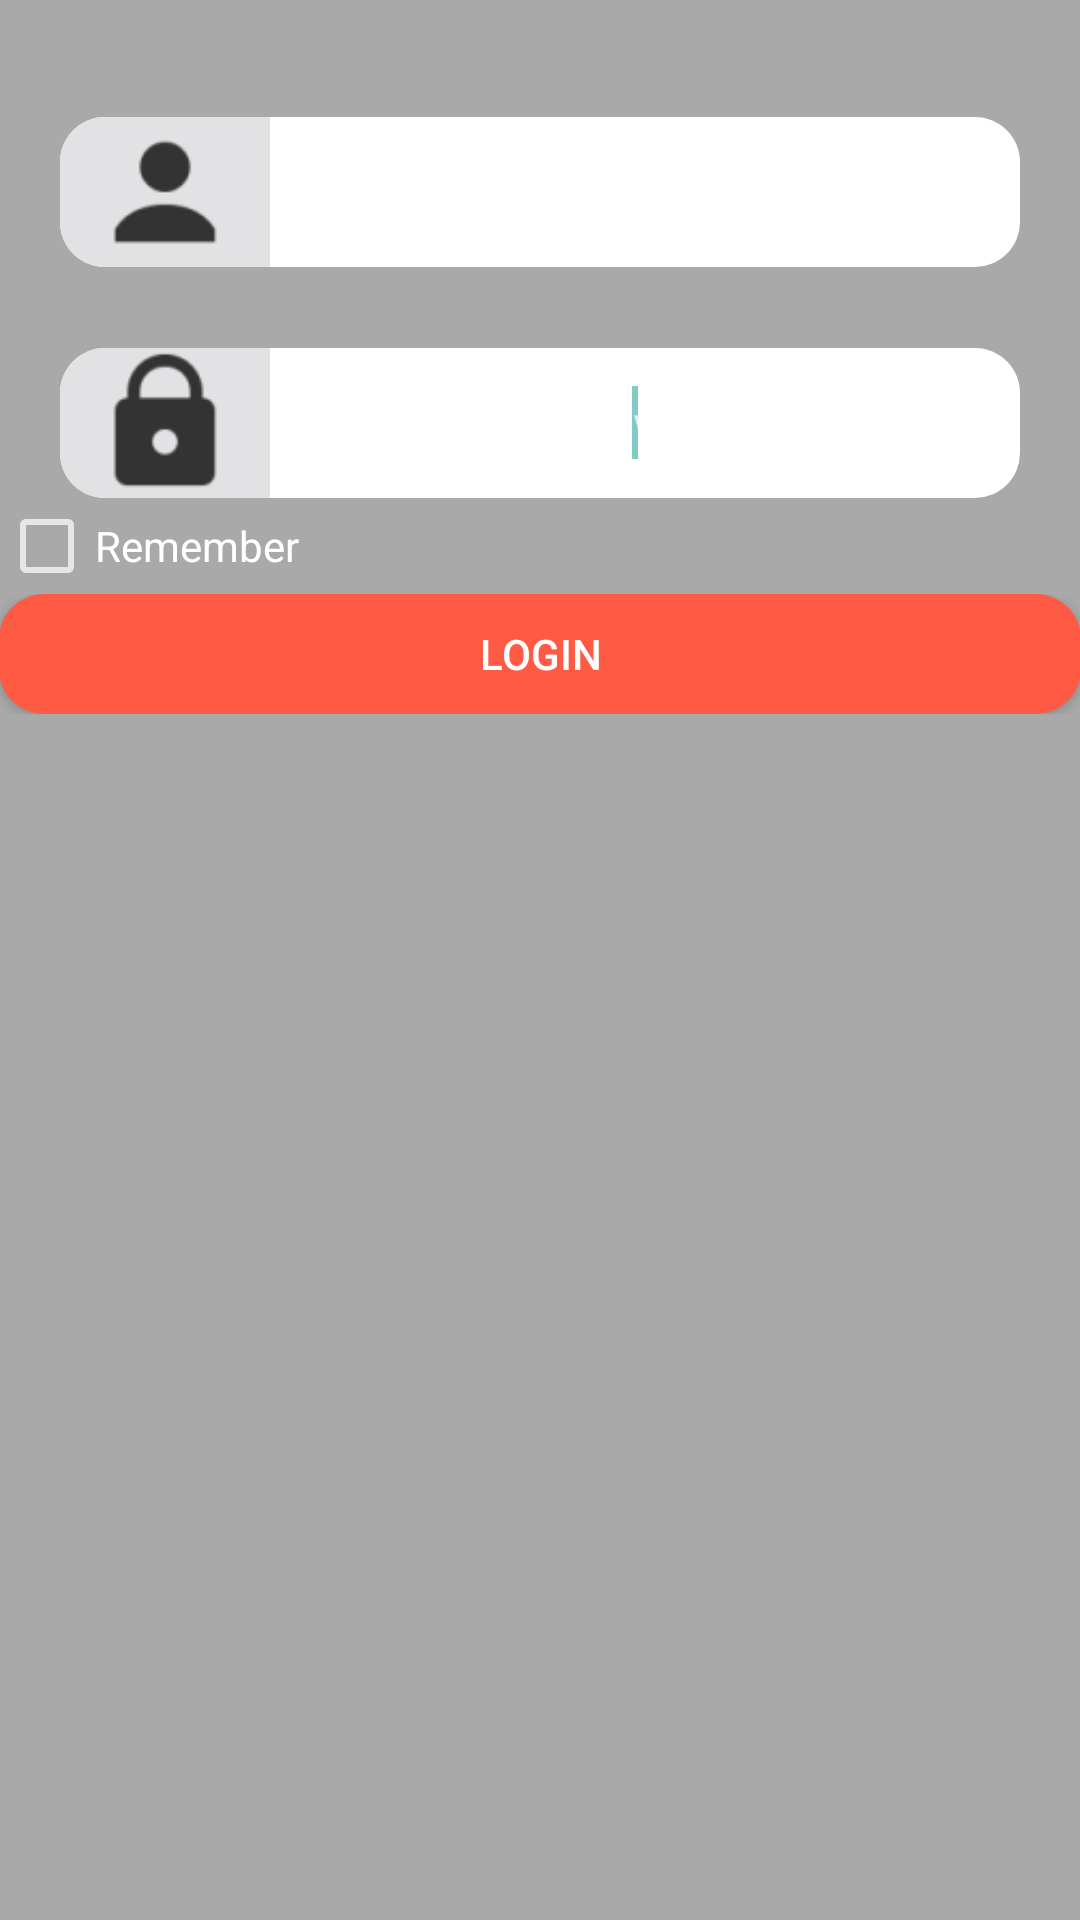

Named icons in this screenshot (1080x1920) and their centers, point (x, y):
lock: point (165, 423)
